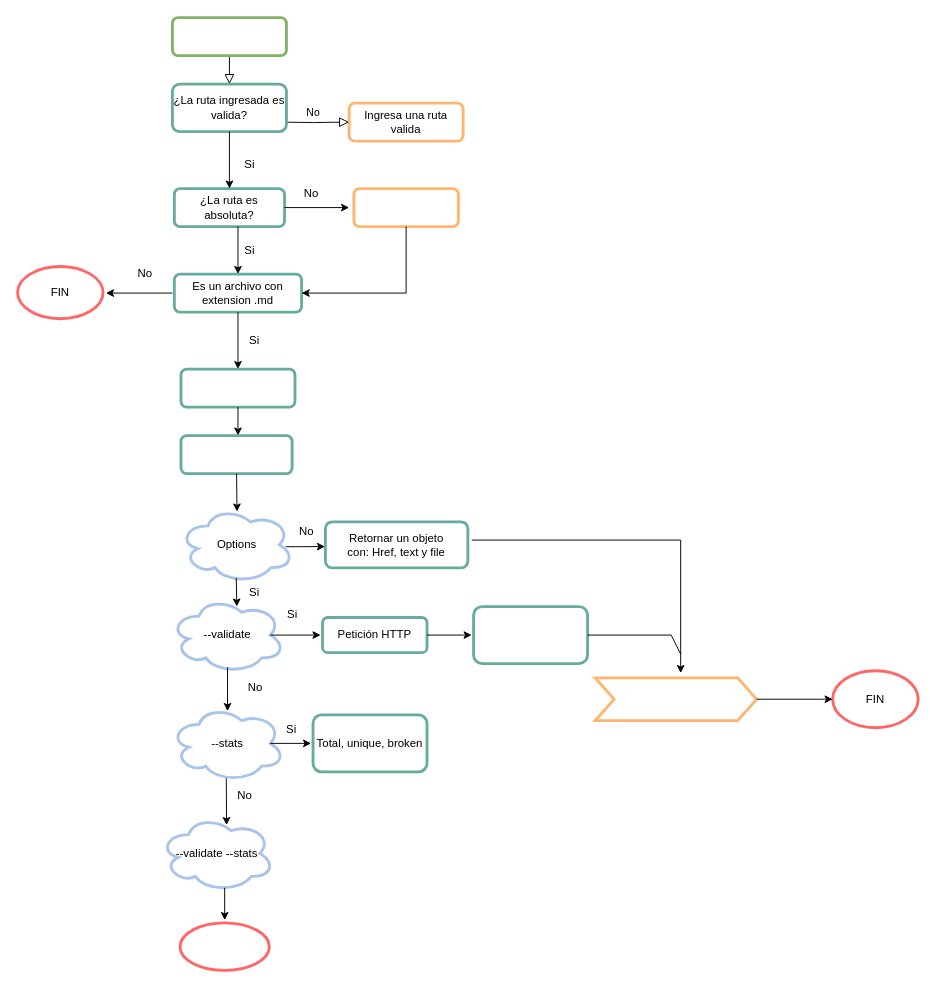
The diagram is 936 pixels wide and 988 high, and some of its shapes have lost their labels. The centre of each missing label's shape, as x and y in pixels:
Convertir a una ruta absoluta: pixel 405 207
Extraer links: pixel 236 454
INICIO: pixel 229 36
Leer archivo: pixel 237 387
Mostrar por consola: pixel 675 699
Respuesta: ok ó fail Status: HTTP: pixel 530 635
Se resuelve: pixel 224 946
